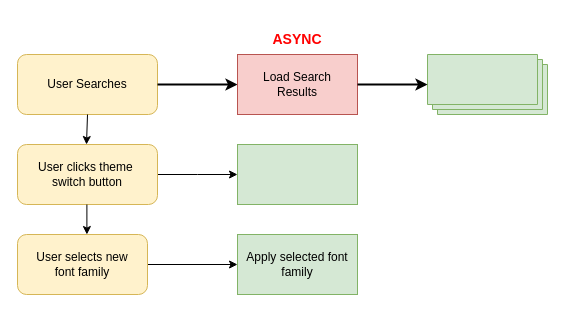
Some shapes in this 565 by 312 pixel diagram are drawn without their labels. The box of each missing label's shape, as (x1, y1, x2, y2) in pixels:
Render Search Results: (426, 54, 548, 114)
Toggle light/dark mode: (236, 144, 358, 204)
